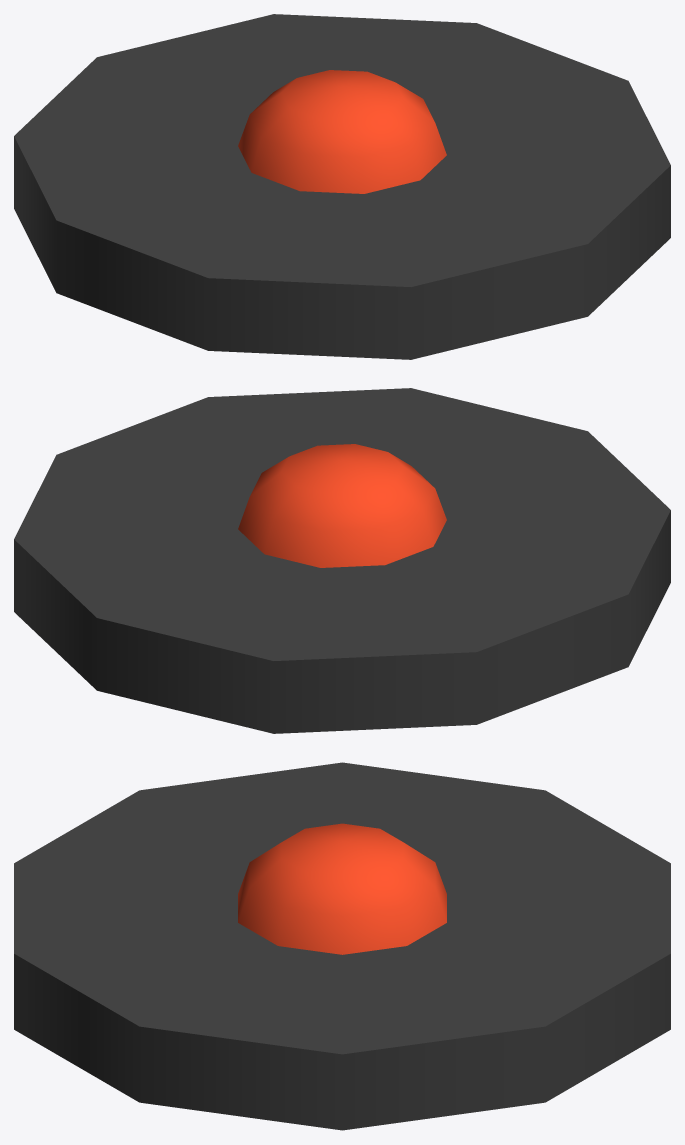
File: Mine.fbx
3 renders of one model, top to bottom at view 1: azimuth 30°, elevation 25°; view 2: azimuth 150°, elevation 25°; view 3: azimuth 270°, elevation 25°, orthographic. The views are drawn at different scales.
Visible parts, largest first — view 1: Mine; view 2: Mine; view 3: Mine.
Boxes of the visible parts, box(x1,y1,x2,y2) form: Mine: box(14, 14, 670, 359); Mine: box(14, 388, 670, 733); Mine: box(14, 762, 670, 1130).
Size of what is drawn, in the model's own units: 1.42 by 0.3242 by 1.35.
Materials: 1 (1 with a texture image).
